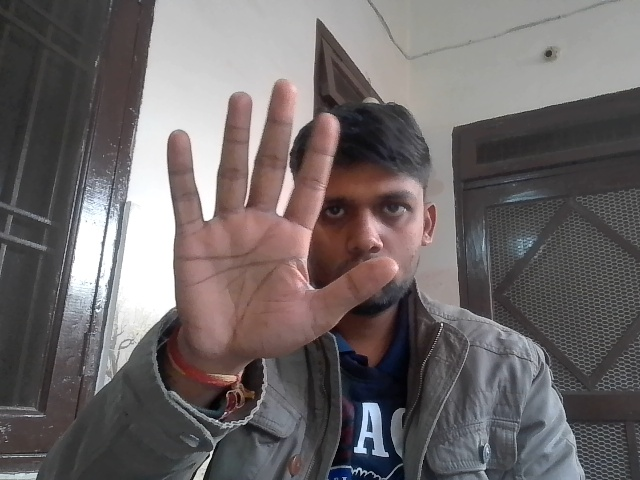Hello: (144, 78, 406, 393)
